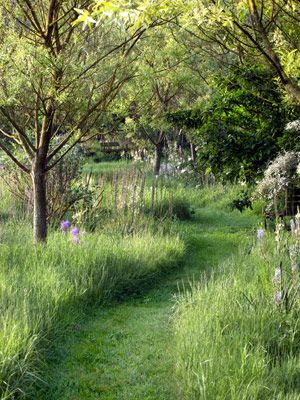grass: (1, 241, 300, 400)
